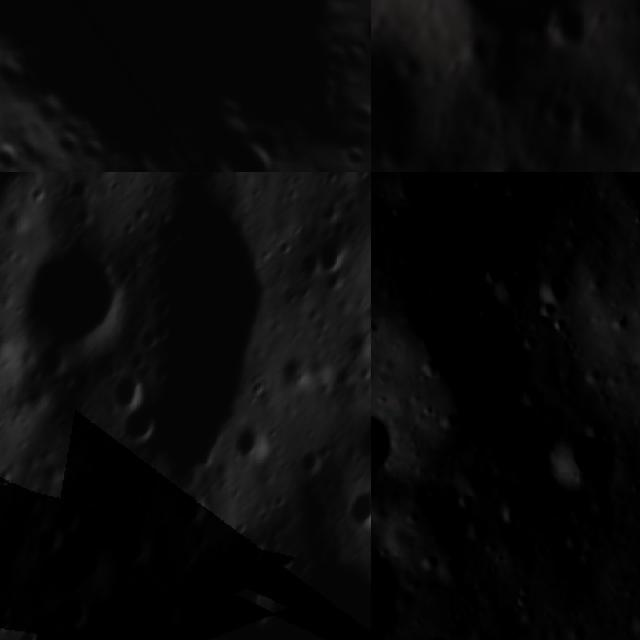crater: (0, 0, 371, 172), (392, 302, 528, 426), (20, 240, 134, 359), (243, 547, 371, 640), (432, 0, 611, 48), (371, 31, 419, 172), (537, 428, 617, 499), (397, 172, 516, 216), (44, 522, 114, 594), (371, 543, 418, 635), (209, 122, 289, 172), (337, 0, 371, 84), (316, 218, 356, 283), (46, 588, 95, 633), (116, 404, 166, 448), (541, 82, 580, 136), (489, 263, 533, 310), (371, 397, 399, 470), (109, 364, 149, 414), (233, 419, 274, 465), (275, 352, 323, 390), (234, 527, 274, 572), (117, 521, 156, 565), (172, 488, 212, 528), (575, 101, 613, 143), (533, 270, 572, 308), (343, 486, 371, 532), (371, 226, 389, 297), (494, 490, 526, 529), (0, 136, 32, 172), (116, 483, 152, 515), (52, 497, 84, 532), (346, 322, 371, 364), (467, 172, 501, 197), (0, 25, 13, 89), (627, 606, 640, 638), (496, 160, 522, 172)
